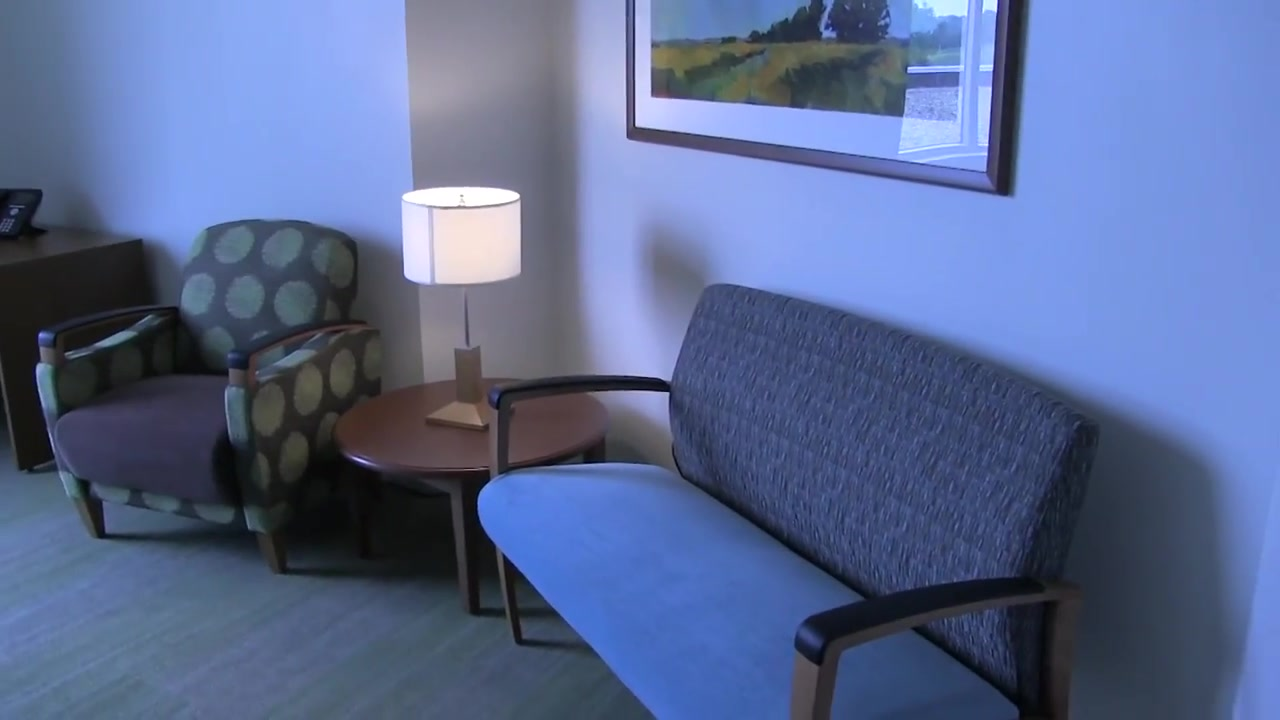sofa: (479, 281, 1098, 720), (36, 219, 384, 575)
table: (331, 375, 605, 617), (1, 223, 158, 473)
telephone: (1, 188, 42, 238)
